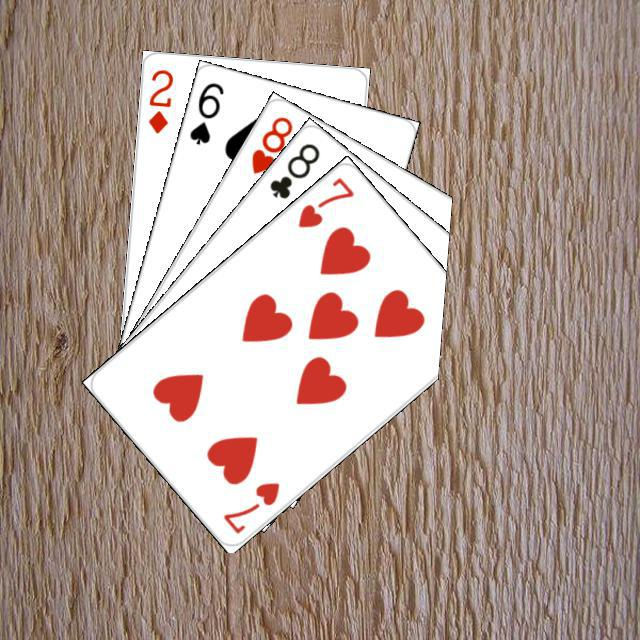2d: (143, 64, 175, 136)
6s: (184, 77, 226, 147)
7h: (217, 477, 282, 536), (292, 172, 356, 230)
8c: (264, 138, 322, 201)
8h: (246, 111, 295, 176)
